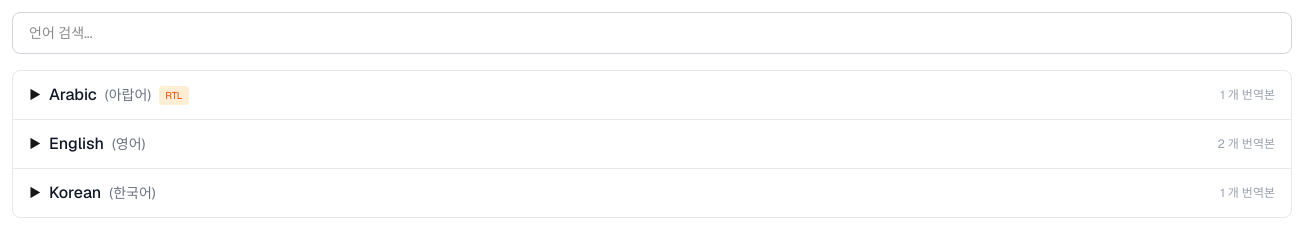
Test case: TranslationBrowser › search/filter translations › filters by translation name
Type "World English" into the field with placeholder "언어 검색...". click: (652, 33)
box: [12,12,1292,54]
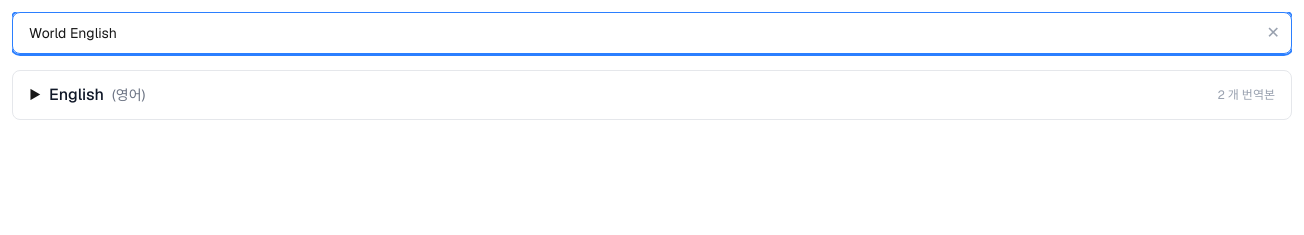
Expected: the text "English" is shown, [49,83,104,107]
Now the button "Korean" is gone
Now the button "Arabic" is gone
